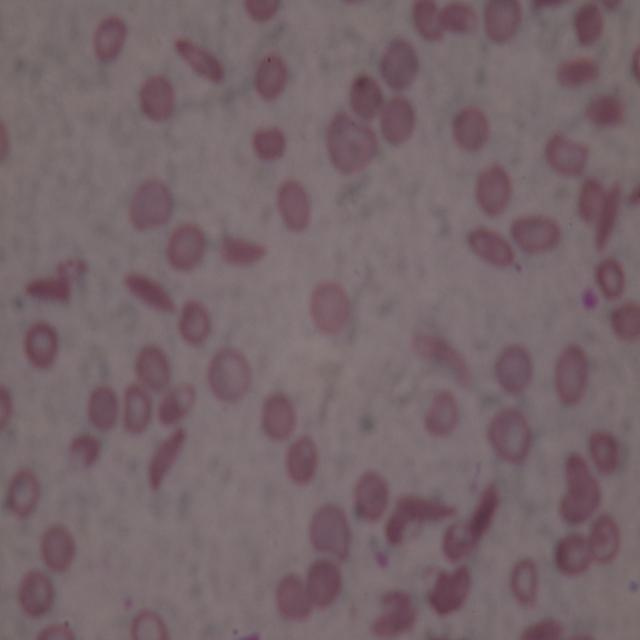Crystal: (455, 483, 504, 555), (506, 214, 566, 258), (463, 223, 517, 270), (551, 54, 603, 90), (159, 381, 197, 425), (385, 498, 421, 544), (24, 276, 76, 307)
Normal: (16, 568, 54, 620), (6, 468, 44, 516), (24, 322, 58, 370), (129, 609, 170, 640)
Others: (324, 110, 380, 174), (486, 404, 532, 469), (308, 499, 352, 563), (207, 346, 254, 404), (126, 176, 174, 228), (308, 282, 352, 337), (164, 223, 211, 274), (552, 344, 590, 406), (426, 567, 474, 616), (492, 340, 532, 397), (474, 163, 514, 220), (372, 586, 414, 640), (449, 104, 494, 154), (544, 132, 592, 178), (274, 181, 311, 239), (380, 34, 420, 87), (504, 558, 544, 610), (353, 468, 390, 522), (249, 51, 290, 98), (588, 514, 622, 569), (481, 0, 523, 44), (285, 434, 321, 484), (138, 75, 175, 123), (422, 389, 459, 437), (92, 16, 128, 64), (38, 524, 74, 572), (381, 99, 416, 148), (276, 574, 313, 620), (261, 393, 296, 441), (580, 92, 622, 132), (563, 478, 601, 522), (605, 297, 640, 344), (134, 346, 168, 393), (555, 532, 591, 576), (573, 1, 606, 49), (248, 125, 288, 164), (87, 387, 120, 434), (348, 75, 382, 120), (123, 385, 152, 437), (178, 299, 210, 346), (308, 560, 342, 604), (588, 429, 620, 475), (595, 256, 627, 302), (576, 175, 606, 223), (518, 615, 574, 638), (412, 2, 445, 40), (66, 435, 103, 464), (563, 450, 587, 491), (246, 4, 282, 22), (3, 379, 14, 428)
Sickle: (120, 271, 180, 319), (148, 422, 187, 492), (172, 36, 226, 85), (592, 181, 626, 249), (387, 499, 460, 524), (220, 236, 271, 270)
